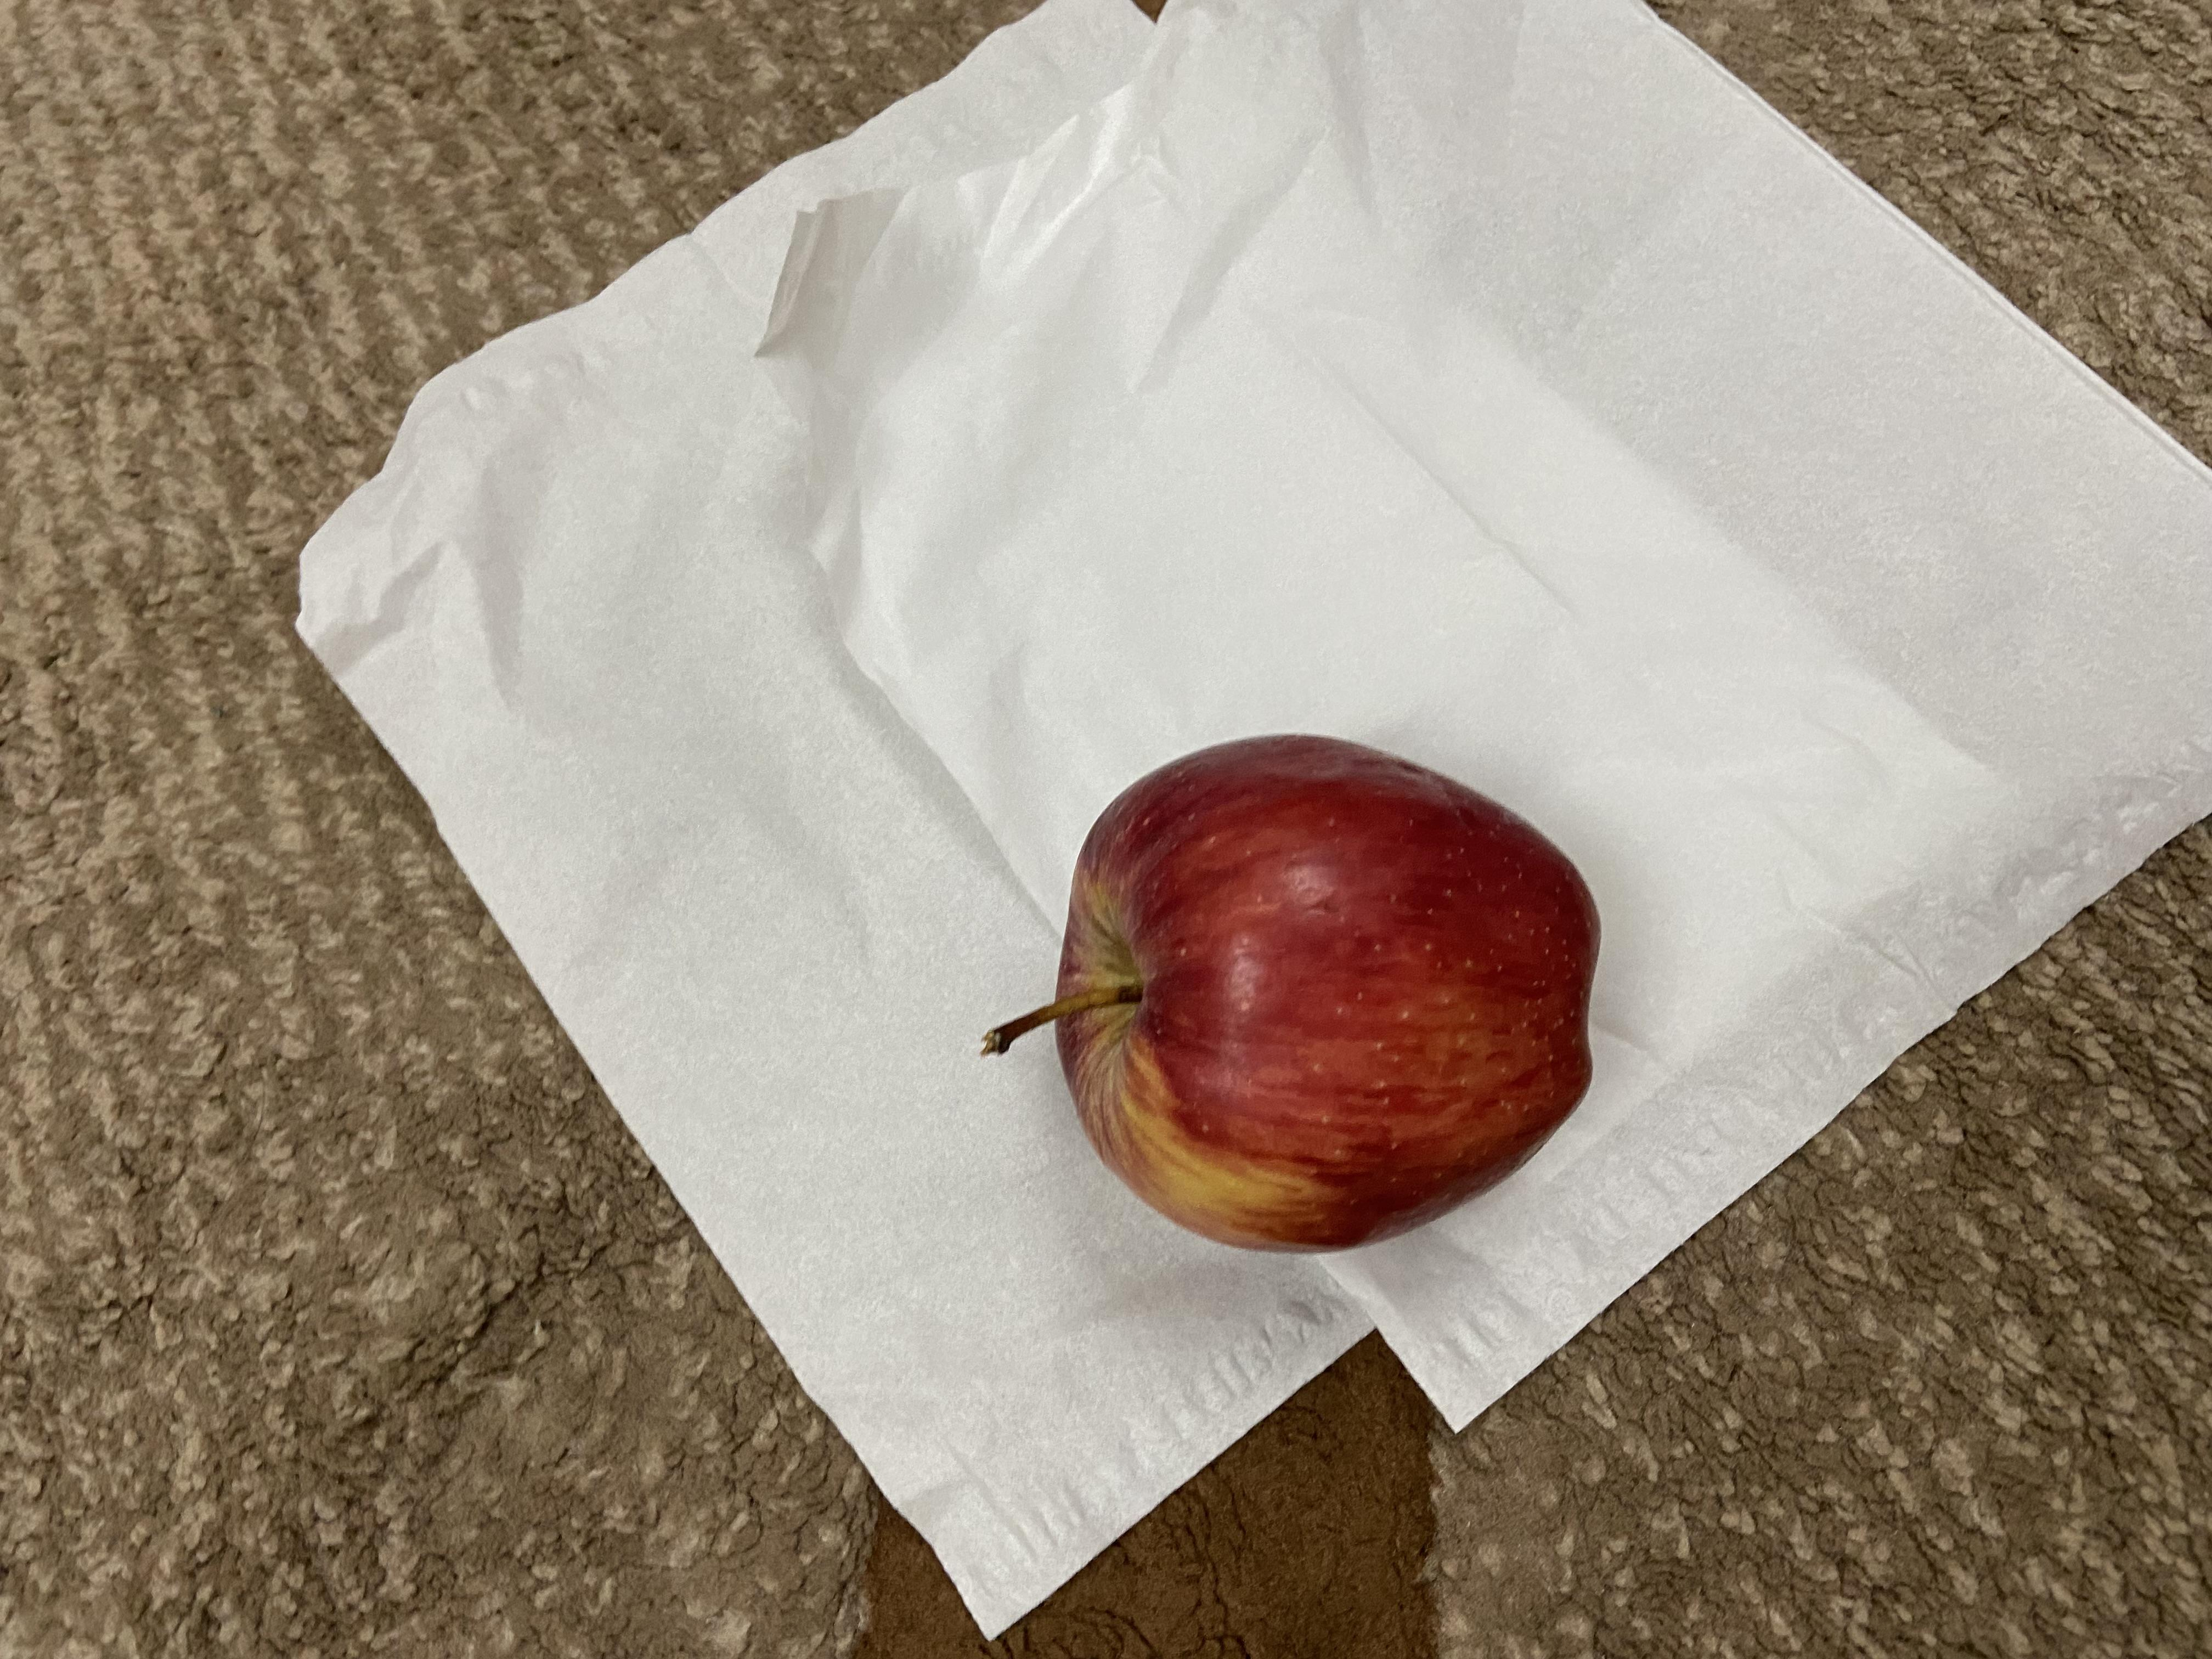Apple: (968, 718, 1608, 1262)
